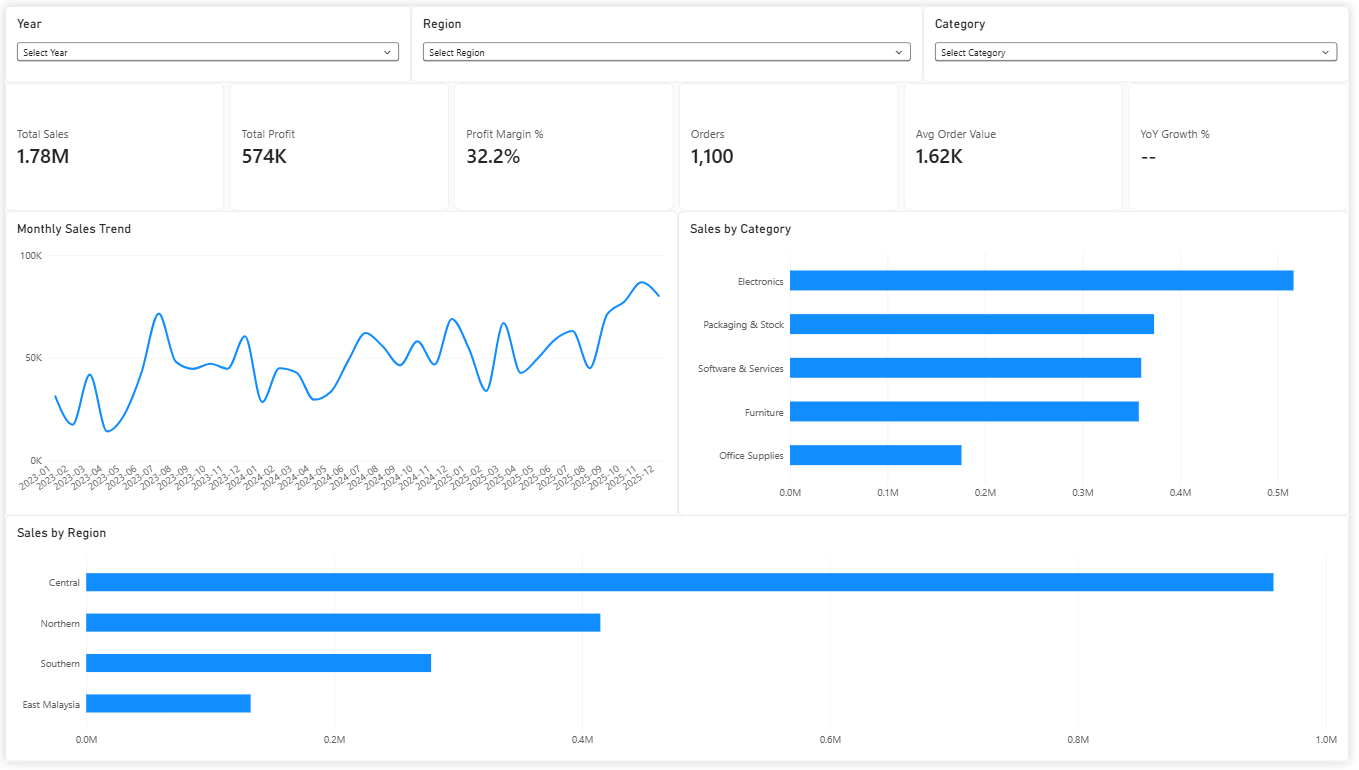

The dashboard page shown, as its layout file describes it:
{"tool":"powerbi","page":{"name":"Overview","canvas":[1920,1080],"ordinal":0},"visuals":[{"type":"cardVisual","fields":{"Data":["Sales.Total Sales","Sales.Total Profit","Sales.Profit Margin %","Sales.Orders","Sales.Avg Order Value","Sales.YoY Growth %"]},"box":[0,109.4,1920,182.9],"z":0},{"type":"lineChart","title":"Monthly Sales Trend","fields":{"Category":["Date.Year-Month"],"Y":["Sales.Total Sales"]},"box":[0,292.3,960.7,434.7],"z":1000},{"type":"clusteredBarChart","title":"Sales by Category","fields":{"Category":["Products.Category"],"Y":["Sales.Total Sales"]},"box":[960.7,292.3,959.3,434.7],"z":2000},{"type":"clusteredBarChart","title":"Sales by Region","fields":{"Category":["Customers.Region"],"Y":["Sales.Total Sales"]},"box":[0,726.9,1920,352.2],"z":3000},{"type":"listSlicer","fields":{"Values":["Date.Year"]},"box":[0,0,580,109.4],"z":4000},{"type":"listSlicer","fields":{"Values":["Customers.Region"]},"box":[580,0,731.4,109.4],"z":5000},{"type":"listSlicer","fields":{"Values":["Products.Category"]},"box":[1311.5,0,608.5,109.4],"z":6000}]}

Visuals, with their boxes in screenshot pixels (x1, y1, x2, y2), scaled from the page's 1920x1080 canvas onto the 1359x770 screenshot:
cardVisual - Sales.Total Sales x Sales.Total Profit: x1=0, y1=78, x2=1358, y2=208
"Monthly Sales Trend" lineChart: x1=0, y1=208, x2=680, y2=518
"Sales by Category" clusteredBarChart: x1=680, y1=208, x2=1358, y2=518
"Sales by Region" clusteredBarChart: x1=0, y1=518, x2=1358, y2=769
listSlicer - Date.Year: x1=0, y1=0, x2=411, y2=78
listSlicer - Customers.Region: x1=411, y1=0, x2=928, y2=78
listSlicer - Products.Category: x1=928, y1=0, x2=1358, y2=78
